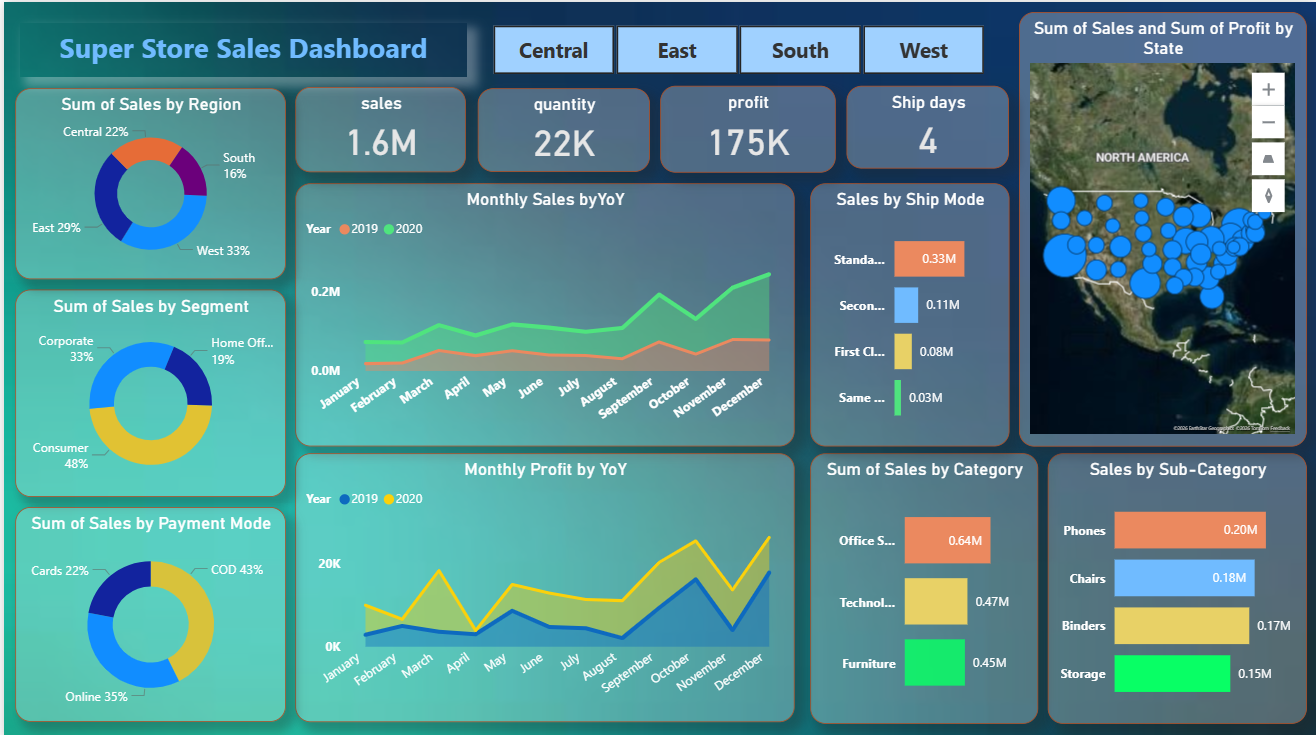

Layout of this report page (visuals, bound fields, positions):
{"tool":"powerbi","page":{"name":"Page 1","canvas":[1280,720],"ordinal":0},"visuals":[{"type":"clusteredBarChart","fields":{"Category":["SuperStore_Sales_Dataset.Category"],"Y":["Sum(SuperStore_Sales_Dataset.Sales)"]},"box":[786.1,440.3,222.2,263.9],"z":0},{"type":"clusteredBarChart","title":"Sales by Sub-Category","fields":{"Category":["SuperStore_Sales_Dataset.Sub-Category"],"Y":["Sum(SuperStore_Sales_Dataset.Sales)"]},"box":[1018.1,440.3,252.8,263.9],"z":1000},{"type":"clusteredBarChart","title":"Sales by Ship Mode","fields":{"Category":["SuperStore_Sales_Dataset.Ship Mode"],"Y":["Sum(SuperStore_Sales_Dataset.Sales)"]},"box":[786.1,176.4,194.4,256.9],"z":2000},{"type":"stackedAreaChart","title":"Monthly Sales byYoY","fields":{"Y":["Sum(SuperStore_Sales_Dataset.Sales)"],"Category":["SuperStore_Sales_Dataset.Order Date.Variation.Date Hierarchy.Month","SuperStore_Sales_Dataset.Order Date.Variation.Date Hierarchy.Day"],"Series":["SuperStore_Sales_Dataset.Order Date.Variation.Date Hierarchy.Year"]},"box":[284.7,176.4,487.5,256.9],"z":3000},{"type":"stackedAreaChart","title":"Monthly Profit by YoY","fields":{"Category":["SuperStore_Sales_Dataset.Order Date.Variation.Date Hierarchy.Month","SuperStore_Sales_Dataset.Order Date.Variation.Date Hierarchy.Day"],"Series":["SuperStore_Sales_Dataset.Order Date.Variation.Date Hierarchy.Year"],"Y":["Sum(SuperStore_Sales_Dataset.Profit)"]},"box":[284.7,440.3,487.5,262.5],"z":4000},{"type":"azureMap","fields":{"Category":["SuperStore_Sales_Dataset.State"],"Size":["Sum(SuperStore_Sales_Dataset.Sales)"]},"box":[990.3,9.7,280.6,423.6],"z":5000},{"type":"donutChart","fields":{"Y":["Sum(SuperStore_Sales_Dataset.Sales)"],"Category":["SuperStore_Sales_Dataset.Segment"]},"box":[11.1,280.6,263.9,202.8],"z":6000},{"type":"donutChart","fields":{"Y":["Sum(SuperStore_Sales_Dataset.Sales)"],"Category":["SuperStore_Sales_Dataset.Payment Mode"]},"box":[11.1,493.1,263.9,209.7],"z":7000},{"type":"slicer","fields":{"Values":["SuperStore_Sales_Dataset.Region"]},"box":[451.4,15.3,529.2,61.1],"z":8000},{"type":"textbox","box":[15.9,20.2,435.7,51.9],"z":9000},{"type":"card","title":"sales","fields":{"Values":["Sum(SuperStore_Sales_Dataset.Sales)"]},"box":[284.7,83.3,166.7,83.3],"z":10000},{"type":"card","title":"quantity","fields":{"Values":["Sum(SuperStore_Sales_Dataset.Quantity)"]},"box":[462.5,84.7,168.1,81.9],"z":11000},{"type":"card","title":"profit","fields":{"Values":["Sum(SuperStore_Sales_Dataset.Profit)"]},"box":[640.3,81.9,170.8,84.7],"z":12000},{"type":"card","title":"Ship days","fields":{"Values":["Avg(SuperStore_Sales_Dataset.AvgDelivery)"]},"box":[822.4,82.2,158.7,80.8],"z":13000},{"type":"donutChart","fields":{"Y":["Sum(SuperStore_Sales_Dataset.Sales)"],"Category":["SuperStore_Sales_Dataset.Region"]},"box":[11.1,84.7,263.9,186.1],"z":13001}]}

Visuals, with their boxes in screenshot pixels (x1, y1, x2, y2), scaled from the page's 1280x720 canvas onto the 1316x735 screenshot:
clusteredBarChart - SuperStore_Sales_Dataset.Category x Sum(SuperStore_Sales_Dataset.Sales): l=808, t=449, r=1037, b=719
"Sales by Sub-Category" clusteredBarChart: l=1047, t=449, r=1307, b=719
"Sales by Ship Mode" clusteredBarChart: l=808, t=180, r=1008, b=442
"Monthly Sales byYoY" stackedAreaChart: l=293, t=180, r=794, b=442
"Monthly Profit by YoY" stackedAreaChart: l=293, t=449, r=794, b=717
azureMap - SuperStore_Sales_Dataset.State x Sum(SuperStore_Sales_Dataset.Sales): l=1018, t=10, r=1307, b=442
donutChart - Sum(SuperStore_Sales_Dataset.Sales) x SuperStore_Sales_Dataset.Segment: l=11, t=286, r=283, b=493
donutChart - Sum(SuperStore_Sales_Dataset.Sales) x SuperStore_Sales_Dataset.Payment Mode: l=11, t=503, r=283, b=717
slicer - SuperStore_Sales_Dataset.Region: l=464, t=16, r=1008, b=78
textbox: l=16, t=21, r=464, b=74
"sales" card: l=293, t=85, r=464, b=170
"quantity" card: l=476, t=86, r=648, b=170
"profit" card: l=658, t=84, r=834, b=170
"Ship days" card: l=846, t=84, r=1009, b=166
donutChart - Sum(SuperStore_Sales_Dataset.Sales) x SuperStore_Sales_Dataset.Region: l=11, t=86, r=283, b=276
